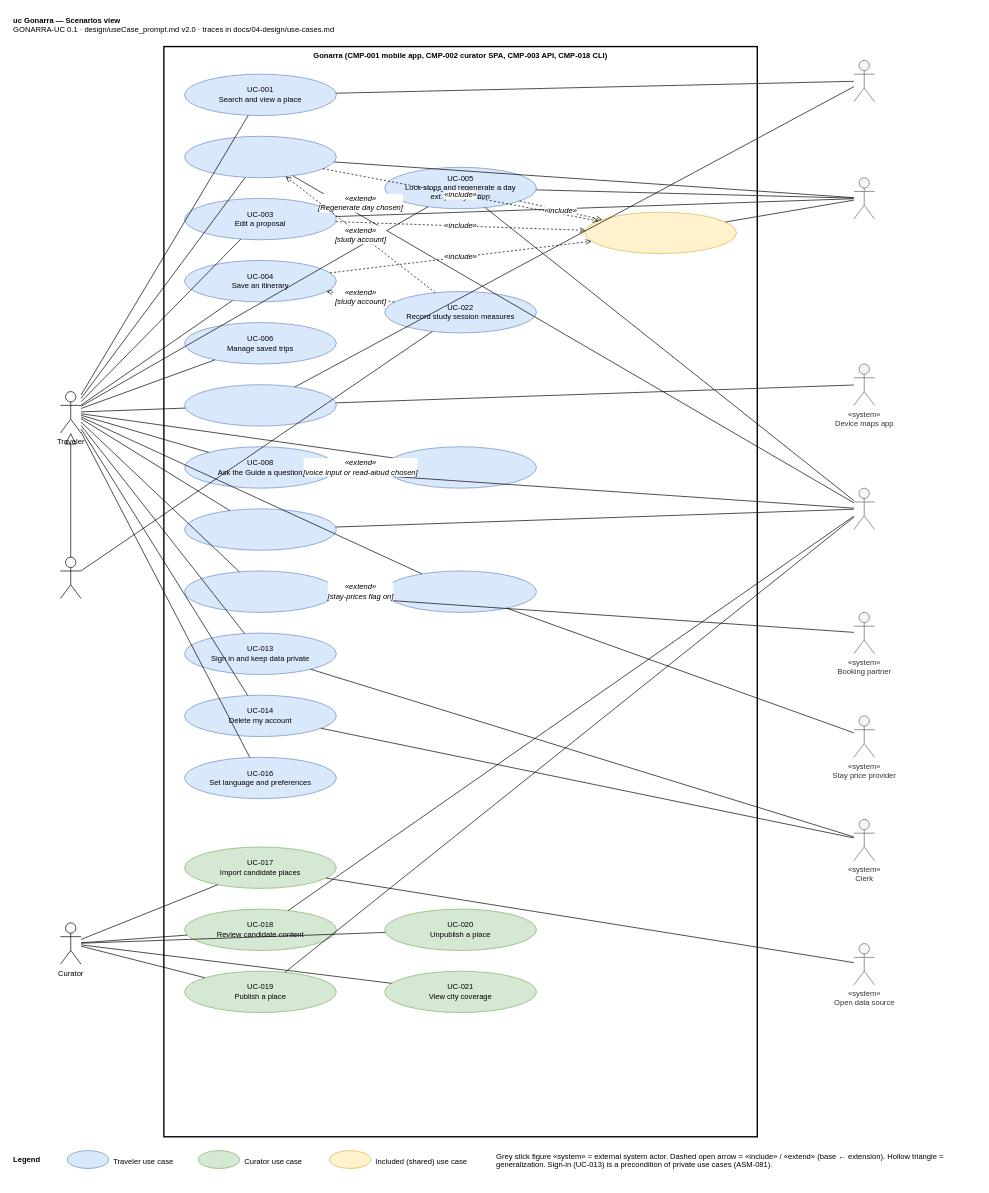
Image size: 989x1193. Some labels were removed from this diagram. The centre of each missing label's shape, as x and y in pixels:
"Study participant" belongs at (70,577).
"UC-002 Generate a trip proposal" belongs at (260,157).
"UC-007 Use a saved trip on site" belongs at (260,405).
"UC-009 Ask the Guide by voice" belongs at (460,467).
"UC-010 Identify a place from a photo" belongs at (260,529).
"UC-011 Open a booking handoff" belongs at (260,591).
"UC-012 View indicative stay prices" belongs at (460,591).
"UC-015 Check plan feasibility (Plan Health)" belongs at (660,232).
"«system» Gemini" belongs at (864,508).
"«system» Google Places" belongs at (864,81).
"«system» Google Routes" belongs at (864,198).
